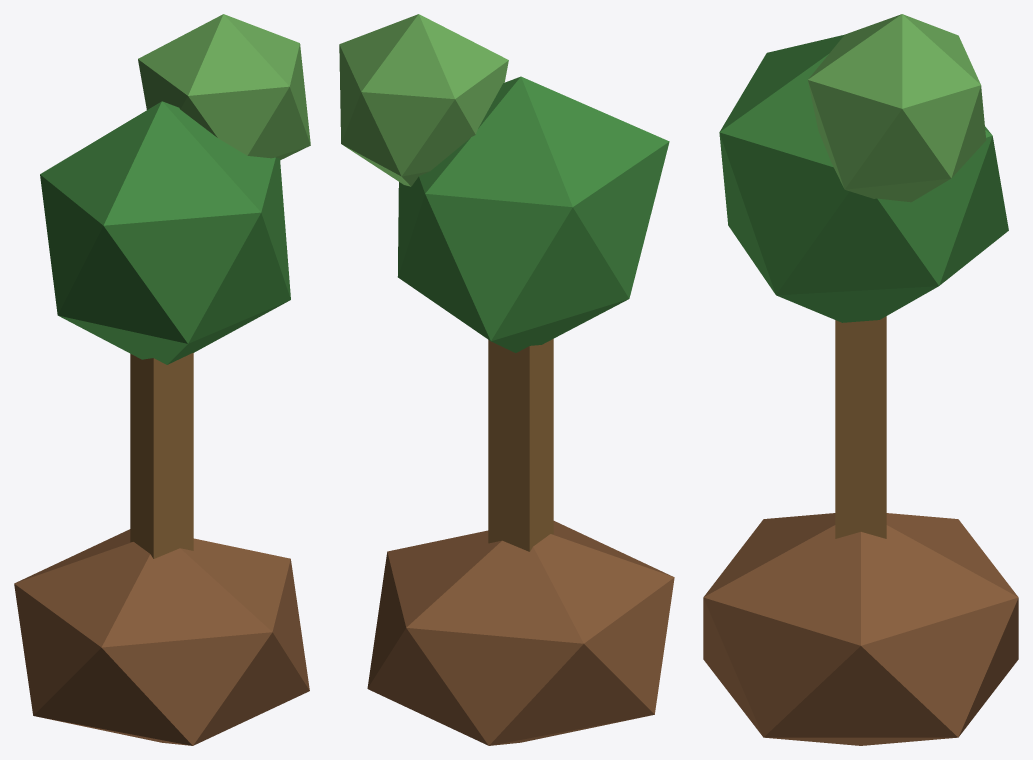
File: sapling.fbx
3 renders of one model, left to right at view 1: azimuth 30°, elevation 25°; view 2: azimuth 150°, elevation 25°; view 3: azimuth 270°, elevation 25°, orthographic. The views are drawn at different scales.
Parts seen in each view (by area): view 1: sapling; view 2: sapling; view 3: sapling.
Boxes of the visible parts, x1=… form: sapling: x1=14, y1=14, x2=310, y2=745; sapling: x1=339, y1=14, x2=674, y2=745; sapling: x1=703, y1=14, x2=1018, y2=745.
Size of the model in its own units: 0.5349 by 1.25 by 0.4593.
